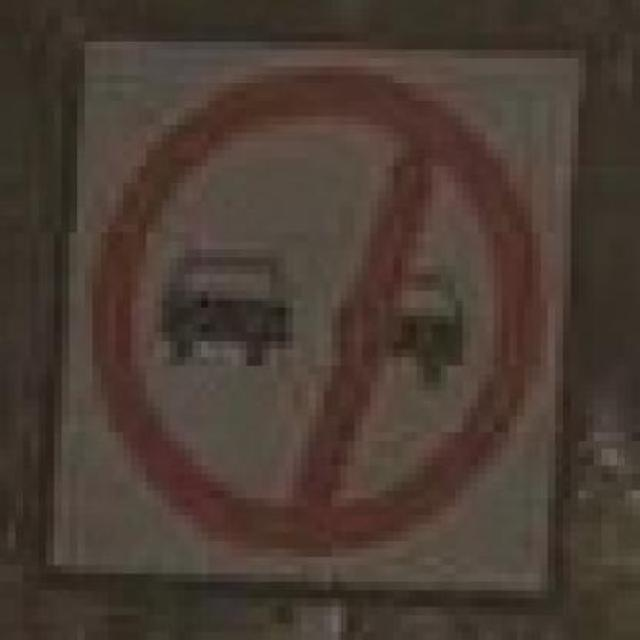overtaking prohibited: (91, 62, 546, 549)
